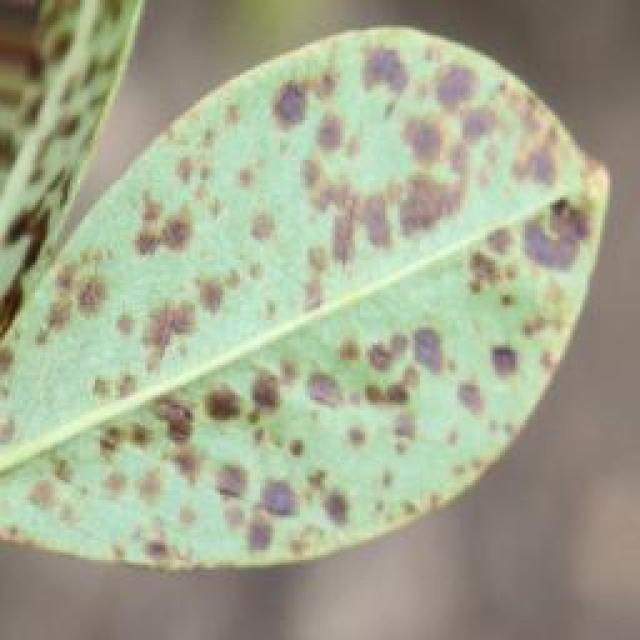Whitefly: (0, 0, 612, 620)
